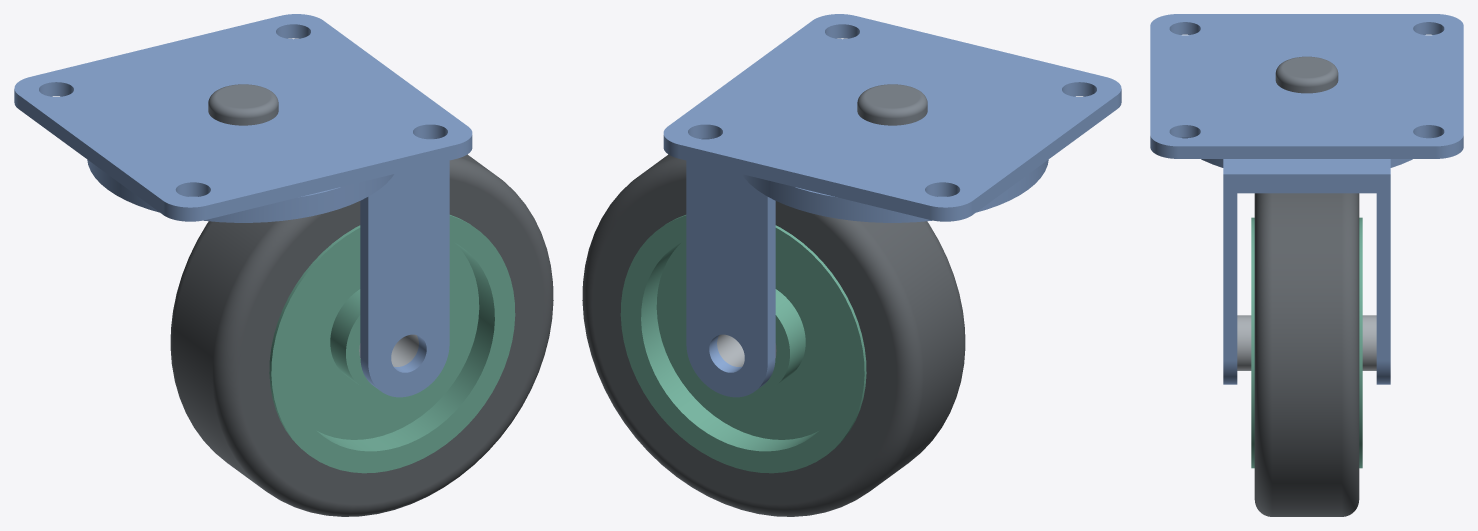
The model's file is step_20.glb.
The picture shows the model from 3 angles, left to right: view 1: azimuth 30°, elevation 25°; view 2: azimuth 150°, elevation 25°; view 3: azimuth 270°, elevation 25°; orthographic projection. The views are drawn at different scales.
Parts seen in each view (by area): view 1: part__top plate, part__tyre, part__wheel centre, part__fork, part__king pin rivet; view 2: part__top plate, part__tyre, part__wheel centre, part__fork, part__king pin rivet; view 3: part__top plate, part__tyre, part__fork, part__wheel centre, part__king pin rivet, part__spacer 1, part__spacer 2.
Part boxes in pixels (bbox=[...]): part__top plate: bbox=[14, 14, 472, 221]; part__tyre: bbox=[170, 154, 553, 516]; part__wheel centre: bbox=[269, 215, 515, 473]; part__fork: bbox=[87, 138, 449, 397]; part__king pin rivet: bbox=[208, 84, 278, 125]; part__top plate: bbox=[663, 14, 1121, 221]; part__tyre: bbox=[582, 154, 965, 516]; part__wheel centre: bbox=[620, 215, 866, 473]; part__fork: bbox=[686, 138, 1048, 397]; part__king pin rivet: bbox=[857, 84, 927, 125]; part__top plate: bbox=[1150, 14, 1463, 158]; part__tyre: bbox=[1254, 193, 1359, 516]; part__fork: bbox=[1182, 137, 1431, 384]; part__wheel centre: bbox=[1251, 217, 1362, 468]; part__king pin rivet: bbox=[1275, 56, 1338, 93]; part__spacer 1: bbox=[1362, 315, 1376, 370]; part__spacer 2: bbox=[1237, 315, 1251, 370].
Size of the model in its own units: 130 by 121 by 90.
